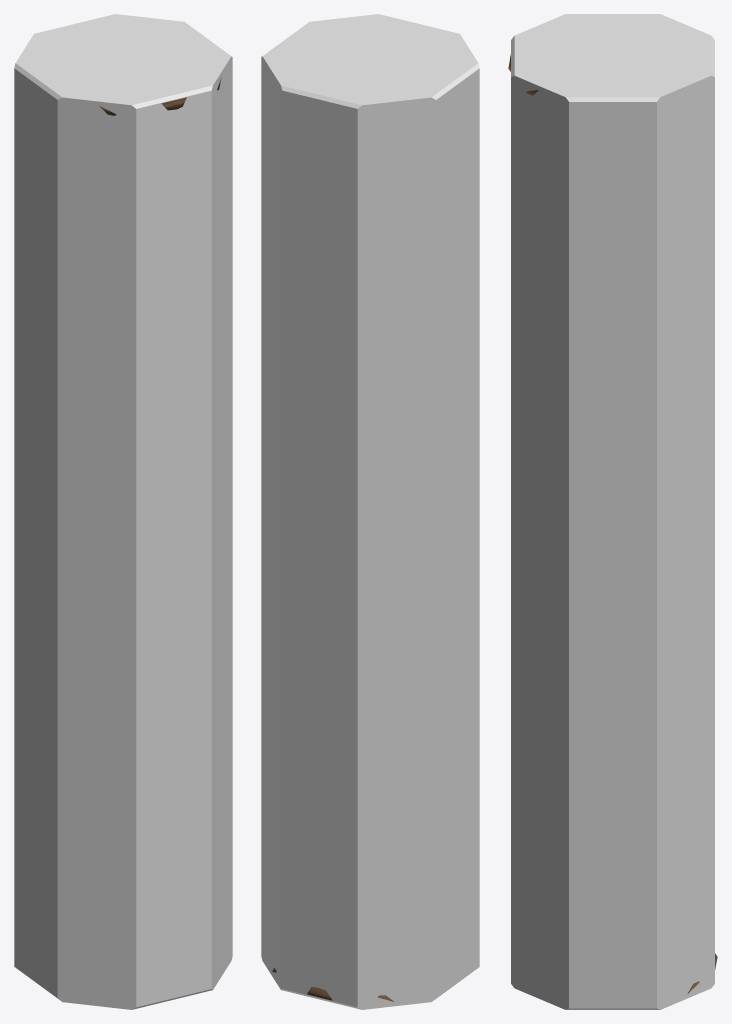
Rendered from SM_column_02.fbx.
3 renders of one model, left to right at view 1: azimuth 30°, elevation 25°; view 2: azimuth 150°, elevation 25°; view 3: azimuth 270°, elevation 25°, orthographic.
Parts seen in each view (by area): view 1: SM_column_02_ConvexHulls; view 2: SM_column_02_ConvexHulls; view 3: SM_column_02_ConvexHulls.
Boxes of the visible parts, x1=… form: SM_column_02_ConvexHulls: x1=14, y1=14, x2=232, y2=1009; SM_column_02_ConvexHulls: x1=261, y1=14, x2=479, y2=1009; SM_column_02_ConvexHulls: x1=511, y1=14, x2=714, y2=1009.
Size of the model in its own units: 141 by 145 by 698.
